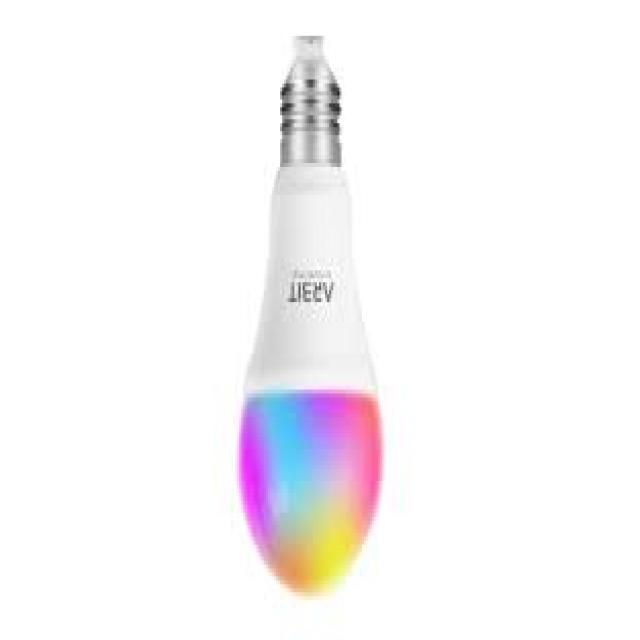light_bulb: (230, 24, 390, 608)
